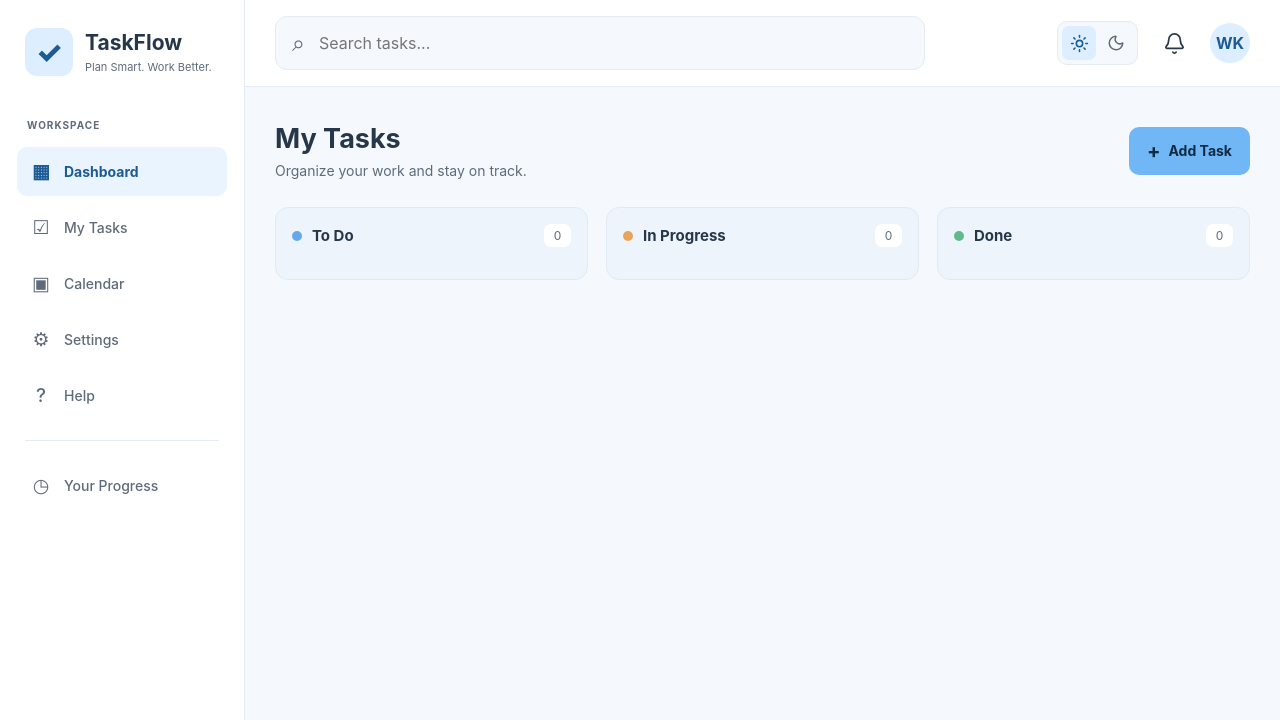
dashboard task statistics › shows an empty state when all shared task columns are empty
Click the link "☑ My Tasks".
click(80, 228)  # box [32,216,128,239]
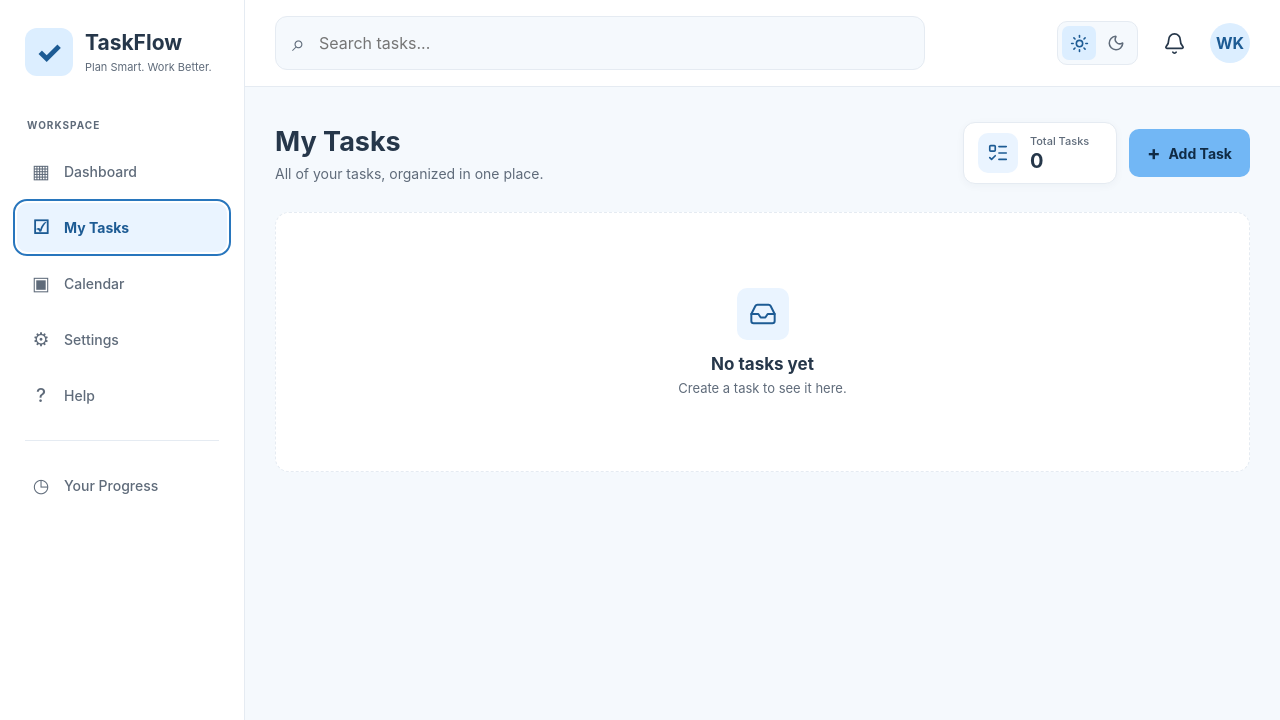
expect the heading "No tasks yet" is shown: met, box [711,354,814,374]
expect the element "Total Tasks" shows "0": met, box [1030,149,1043,173]
